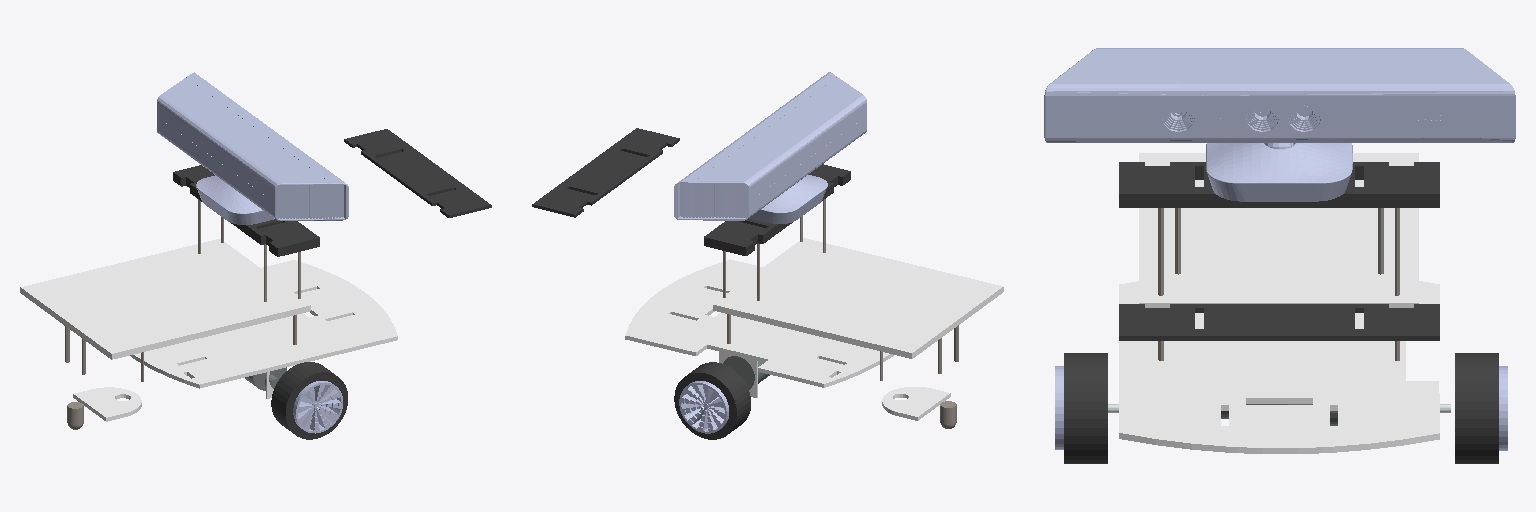
--- Render facts (derived) ---
3 views of the same robot in one strip: view 1: azimuth 30°, elevation 25°; view 2: azimuth 150°, elevation 25°; view 3: azimuth 270°, elevation 25° (orthographic).
Robot: robotr_description — 21 links, 20 joints (20 fixed); root link base_footprint; default pose: all joints at 0.
Visible links, largest first — view 1: upper_plate, kinect, base_link, black_plate_small, black_plate_big, r_wheel, r_rim, castor_base, 6cm_studs; view 2: upper_plate, kinect, base_link, black_plate_small, black_plate_big, l_wheel, l_rim, castor_base, l_motor, 6cm_studs; view 3: kinect, base_link, upper_plate, black_plate_small, black_plate_big, l_wheel, r_wheel, 6cm_studs, l_rim, r_rim.
Boxes of the visible links, box(x1,y1,x2,y2) form: upper_plate: box(20, 239, 310, 359); kinect: box(157, 72, 348, 224); base_link: box(130, 260, 397, 388); black_plate_small: box(344, 129, 491, 217); black_plate_big: box(173, 165, 319, 256); r_wheel: box(271, 362, 347, 439); r_rim: box(293, 381, 342, 433); castor_base: box(73, 387, 141, 421); 6cm_studs: box(198, 199, 300, 301); upper_plate: box(713, 238, 1003, 358); kinect: box(674, 72, 866, 223); base_link: box(625, 259, 893, 387); black_plate_small: box(532, 128, 679, 217); black_plate_big: box(704, 164, 850, 255); l_wheel: box(674, 362, 750, 439); l_rim: box(679, 381, 728, 433); castor_base: box(882, 387, 950, 420); l_motor: box(723, 356, 769, 389); 6cm_studs: box(723, 199, 825, 300); kinect: box(1044, 48, 1515, 201); base_link: box(1119, 281, 1439, 453); upper_plate: box(1139, 153, 1418, 307); black_plate_small: box(1119, 304, 1439, 340); black_plate_big: box(1119, 162, 1439, 207); l_wheel: box(1455, 353, 1498, 463); r_wheel: box(1064, 353, 1107, 463); 6cm_studs: box(1158, 208, 1399, 295); l_rim: box(1499, 366, 1507, 450); r_rim: box(1055, 366, 1063, 449).
Bounding box of the posed robot: 0.3925 × 0.2793 × 0.2555 m (x, y, z).
20 mesh visuals loaded from 20 distinct referenced files (20 binary STL).

robot.urdf — robotr_description:
<?xml version="1.0" encoding="utf-8"?>
<!-- This URDF was automatically created by SolidWorks to URDF Exporter! Originally created by Stephen Brawner ([email redacted]) 
     Commit Version: 1.6.0-1-g15f4949  Build Version: 1.6.7594.29634
     For more information, please see http://wiki.ros.org/sw_urdf_exporter -->
<robot
  name="robotr_description">
  <link name="base_footprint"/>
  <joint name="base_joint" type="fixed">
      <origin xyz="0 0 0.07" rpy="0 0 0" />
      <parent link="base_footprint"/>
      <child link="base_link" />
  </joint>
  <link
    name="base_link">
    <inertial>
      <origin
        xyz="-0.0803303511068174 0.00200000000059307 -0.00279990982630055"
        rpy="0 0 0" />
      <mass
        value="0.203717088165317" />
      <inertia
        ixx="0.000562842365919075"
        ixy="-1.06248777322587E-13"
        ixz="1.73218556106049E-07"
        iyy="0.00153671440021781"
        iyz="1.10182595670909E-16"
        izz="0.000974415279477664" />
    </inertial>
    <visual>
      <origin
        xyz="0 0 0"
        rpy="0 0 0" />
      <geometry>
        <mesh
          filename="package://navigator_bringup/meshes/base_link.STL" />
      </geometry>
      <material
        name="">
        <color
          rgba="1 1 1 0.3" />
      </material>
    </visual>
    <collision>
      <origin
        xyz="0 0 0"
        rpy="0 0 0" />
      <geometry>
        <mesh
          filename="package://navigator_bringup/meshes/base_link.STL" />
      </geometry>
    </collision>
  </link>
  <link
    name="castor_studs">
    <inertial>
      <origin
        xyz="1.23408929805474E-15 -0.0187500000000007 1.38777878078145E-16"
        rpy="0 0 0" />
      <mass
        value="0.00600155604822617" />
      <inertia
        ixx="7.0830864610836E-07"
        ixy="5.67936112148467E-23"
        ixz="6.68165186722167E-25"
        iyy="1.00025934137104E-08"
        iyz="4.89896175218932E-21"
        izz="7.0830864610836E-07" />
    </inertial>
    <visual>
      <origin
        xyz="0 0 0"
        rpy="0 0 0" />
      <geometry>
        <mesh
          filename="package://navigator_bringup/meshes/castor_studs.STL" />
      </geometry>
      <material
        name="">
        <color
          rgba="0.647058823529412 0.619607843137255 0.588235294117647 1" />
      </material>
    </visual>
    <collision>
      <origin
        xyz="0 0 0"
        rpy="0 0 0" />
      <geometry>
        <mesh
          filename="package://navigator_bringup/meshes/castor_studs.STL" />
      </geometry>
    </collision>
  </link>
  <joint
    name="castor_studs_joint"
    type="fixed">
    <origin
      xyz="-0.18 0 0"
      rpy="1.5707963267949 0 -1.5707963267949" />
    <parent
      link="base_link" />
    <child
      link="castor_studs" />
    <axis
      xyz="0 0 0" />
  </joint>
  <link
    name="castor_base">
    <inertial>
      <origin
        xyz="-1.29650489250412E-15 0.002 -0.0113743448101382"
        rpy="0 0 0" />
      <mass
        value="0.0116976101152847" />
      <inertia
        ixx="2.0855361321016E-06"
        ixy="-3.99680288865037E-24"
        ixz="2.03293134804627E-20"
        iyy="5.31282511365259E-06"
        iyz="1.68856393088669E-23"
        izz="3.25848260852509E-06" />
    </inertial>
    <visual>
      <origin
        xyz="0 0 0"
        rpy="0 0 0" />
      <geometry>
        <mesh
          filename="package://navigator_bringup/meshes/castor_base.STL" />
      </geometry>
      <material
        name="">
        <color
          rgba="1 1 1 0.3" />
      </material>
    </visual>
    <collision>
      <origin
        xyz="0 0 0"
        rpy="0 0 0" />
      <geometry>
        <mesh
          filename="package://navigator_bringup/meshes/castor_base.STL" />
      </geometry>
    </collision>
  </link>
  <joint
    name="castor_base_joint"
    type="fixed">
    <origin
      xyz="0 -0.0415 -0.025"
      rpy="3.14159265358979 0 3.14159265358979" />
    <parent
      link="castor_studs" />
    <child
      link="castor_base" />
    <axis
      xyz="0 0 0" />
  </joint>
  <link
    name="castor">
    <inertial>
      <origin
        xyz="2.77555756156289E-17 0.00567732558139535 -1.25711704189126E-15"
        rpy="3.1416 0 0" />
      <mass
        value="0.0292550998388507" />
      <inertia
        ixx="1.56333497253794E-06"
        ixy="-3.23316146394946E-23"
        ixz="2.76990885140595E-24"
        iyy="7.84529930271505E-07"
        iyz="-1.068884300382E-22"
        izz="1.56333497253794E-06" />
    </inertial>
    <visual>
      <origin
        xyz="0 0 0"
        rpy="0 0 0" />
      <geometry>
        <mesh
          filename="package://navigator_bringup/meshes/castor.STL" />
      </geometry>
      <material
        name="">
        <color
          rgba="0.647058823529412 0.619607843137255 0.588235294117647 1" />
      </material>
    </visual>
    <collision>
      <origin
        xyz="0 0 0"
        rpy="0 0 0" />
      <geometry>
        <mesh
          filename="package://navigator_bringup/meshes/castor.STL" />
      </geometry>
    </collision>
  </link>
  <joint
    name="castor_joint"
    type="fixed">
    <origin
      xyz="0 -0.0125 -0.025"
      rpy="0 1.5708 0" />
    <parent
      link="castor_base" />
    <child
      link="castor" />
    <axis
      xyz="0 0 0" />
  </joint>
  <link
    name="l_clamp">
    <inertial>
      <origin
        xyz="4.46439755636888E-16 0.00634190450325339 0.0108492512203278"
        rpy="0 0 0" />
      <mass
        value="0.0113161726562261" />
      <inertia
        ixx="2.68003208965716E-06"
        ixy="-9.23150646109792E-21"
        ixz="4.49571498549235E-21"
        iyy="4.10049166716253E-06"
        iyz="-5.71883700326575E-07"
        izz="2.45690436047926E-06" />
    </inertial>
    <visual>
      <origin
        xyz="0 0 0"
        rpy="0 0 0" />
      <geometry>
        <mesh
          filename="package://navigator_bringup/meshes/l_clamp.STL" />
      </geometry>
      <material
        name="">
        <color
          rgba="1 1 1 1" />
      </material>
    </visual>
    <collision>
      <origin
        xyz="0 0 0"
        rpy="0 0 0" />
      <geometry>
        <mesh
          filename="package://navigator_bringup/meshes/l_clamp.STL" />
      </geometry>
    </collision>
  </link>
  <joint
    name="l_clamp_joint"
    type="fixed">
    <origin
      xyz="0 0.071 -0.02"
      rpy="0 0 -3.1416" />
    <parent
      link="base_link" />
    <child
      link="l_clamp" />
    <axis
      xyz="0 0 0" />
  </joint>
  <link
    name="l_motor">
    <inertial>
      <origin
        xyz="1.49223508458574E-15 0.0331302521008403 0.000142857142857142"
        rpy="0 0 0" />
      <mass
        value="0.524884734191168" />
      <inertia
        ixx="0.000236474771933518"
        ixy="-3.18605575834741E-18"
        ixz="-5.79157981080169E-20"
        iyy="8.43876657673291E-05"
        iyz="-2.76462397510654E-06"
        izz="0.000235848123832493" />
    </inertial>
    <visual>
      <origin
        xyz="0 0 0"
        rpy="0 0 0" />
      <geometry>
        <mesh
          filename="package://navigator_bringup/meshes/l_motor.STL" />
      </geometry>
      <material
        name="">
        <color
          rgba="0.529411764705882 0.549019607843137 0.549019607843137 1" />
      </material>
    </visual>
    <collision>
      <origin
        xyz="0 0 0"
        rpy="0 0 0" />
      <geometry>
        <mesh
          filename="package://navigator_bringup/meshes/l_motor.STL" />
      </geometry>
    </collision>
  </link>
  <joint
    name="l_motor_joint"
    type="fixed">
    <origin
      xyz="0 0.066 0"
      rpy="3.14159265358979 0 0" />
    <parent
      link="l_clamp" />
    <child
      link="l_motor" />
    <axis
      xyz="0 0 0" />
  </joint>
  <link
    name="l_shaft">
    <inertial>
      <origin
        xyz="6.21571815861636E-16 0.011 3.46944695195361E-18"
        rpy="0 0 0" />
      <mass
        value="0.00117927534234127" />
      <inertia
        ixx="4.94067231968394E-08"
        ixy="-3.19271442540666E-22"
        ixz="-3.98019225194449E-39"
        iyy="3.68523544481647E-09"
        iyz="-4.23878906834201E-25"
        izz="4.94067231968394E-08" />
    </inertial>
    <visual>
      <origin
        xyz="0 0 0"
        rpy="0 0 0" />
      <geometry>
        <mesh
          filename="package://navigator_bringup/meshes/l_shaft.STL" />
      </geometry>
      <material
        name="">
        <color
          rgba="0.898039215686275 0.917647058823529 0.929411764705882 1" />
      </material>
    </visual>
    <collision>
      <origin
        xyz="0 0 0"
        rpy="0 0 0" />
      <geometry>
        <mesh
          filename="package://navigator_bringup/meshes/l_shaft.STL" />
      </geometry>
    </collision>
  </link>
  <joint
    name="l_shaft_joint"
    type="fixed">
    <origin
      xyz="0 0.075 0.00849999999999974"
      rpy="0 0 0" />
    <parent
      link="l_motor" />
    <child
      link="l_shaft" />
    <axis
      xyz="0 0 0" />
  </joint>
  <link
    name="l_rim">
    <inertial>
      <origin
        xyz="8.02221423384087E-16 0.0122162154619034 5.88345364891524E-06"
        rpy="0 0 0" />
      <mass
        value="0.0281408161945305" />
      <inertia
        ixx="6.48363892722368E-06"
        ixy="2.38924530570378E-20"
        ixz="1.12234318729371E-20"
        iyy="1.00188552236876E-05"
        iyz="-1.61985412368655E-09"
        izz="6.48372715588808E-06" />
    </inertial>
    <visual>
      <origin
        xyz="0 0 0"
        rpy="0 0 0" />
      <geometry>
        <mesh
          filename="package://navigator_bringup/meshes/l_rim.STL" />
      </geometry>
      <material
        name="">
        <color
          rgba="0.792156862745098 0.819607843137255 0.933333333333333 1" />
      </material>
    </visual>
    <collision>
      <origin
        xyz="0 0 0"
        rpy="0 0 0" />
      <geometry>
        <mesh
          filename="package://navigator_bringup/meshes/l_rim.STL" />
      </geometry>
    </collision>
  </link>
  <joint
    name="l_rim_joint"
    type="fixed">
    <origin
      xyz="0 0.0242514397792677 0"
      rpy="0 0 0" />
    <parent
      link="l_shaft" />
    <child
      link="l_rim" />
    <axis
      xyz="0 0 0" />
  </joint>
  <link
    name="l_wheel">
    <inertial>
      <origin
        xyz="8.18762427883605E-16 0.013 1.6306400674182E-16"
        rpy="0 0 0" />
      <mass
        value="0.0439338814375541" />
      <inertia
        ixx="2.13006101836408E-05"
        ixy="1.14176510865926E-19"
        ixz="1.58691157838805E-33"
        iyy="3.76513363919839E-05"
        iyz="2.26252082477143E-19"
        izz="2.13006101836408E-05" />
    </inertial>
    <visual>
      <origin
        xyz="0 0 0"
        rpy="0 0 0" />
      <geometry>
        <mesh
          filename="package://navigator_bringup/meshes/l_wheel.STL" />
      </geometry>
      <material
        name="">
        <color
          rgba="0.298039215686275 0.298039215686275 0.298039215686275 1" />
      </material>
    </visual>
    <collision>
      <origin
        xyz="0 0 0"
        rpy="0 0 0" />
      <geometry>
        <mesh
          filename="package://navigator_bringup/meshes/l_wheel.STL" />
      </geometry>
    </collision>
  </link>
  <joint
    name="l_wheel_joint"
    type="fixed">
    <origin
      xyz="0 0 0"
      rpy="0 0 0" />
    <parent
      link="l_rim" />
    <child
      link="l_wheel" />
    <axis
      xyz="0 0 0" />
  </joint>
  <link
    name="r_clamp">
    <inertial>
      <origin
        xyz="7.73858964492141E-16 0.00634190450325341 0.0108492512203277"
        rpy="0 0 0" />
      <mass
        value="0.011316172656226" />
      <inertia
        ixx="2.68003208965717E-06"
        ixy="5.75150324310157E-22"
        ixz="-4.67965262388268E-21"
        iyy="4.10049166716254E-06"
        iyz="-5.71883700326575E-07"
        izz="2.45690436047926E-06" />
    </inertial>
    <visual>
      <origin
        xyz="0 0 0"
        rpy="0 0 0" />
      <geometry>
        <mesh
          filename="package://navigator_bringup/meshes/r_clamp.STL" />
      </geometry>
      <material
        name="">
        <color
          rgba="1 1 1 1" />
      </material>
    </visual>
    <collision>
      <origin
        xyz="0 0 0"
        rpy="0 0 0" />
      <geometry>
        <mesh
          filename="package://navigator_bringup/meshes/r_clamp.STL" />
      </geometry>
    </collision>
  </link>
  <joint
    name="r_clamp_joint"
    type="fixed">
    <origin
      xyz="0 -0.071 -0.02"
      rpy="0 0 0" />
    <parent
      link="base_link" />
    <child
      link="r_clamp" />
    <axis
      xyz="0 0 0" />
  </joint>
  <link
    name="r_motor">
    <inertial>
      <origin
        xyz="0.0099999999999995 0.0431302521008403 0.000142857142857177"
        rpy="0 0 0" />
      <mass
        value="0.524884734191169" />
      <inertia
        ixx="0.000236474771933518"
        ixy="-1.0427133200798E-18"
        ixz="-1.49294057345111E-20"
        iyy="8.43876657673291E-05"
        iyz="-2.76462397510655E-06"
        izz="0.000235848123832493" />
    </inertial>
    <visual>
      <origin
        xyz="0 0 0"
        rpy="0 0 0" />
      <geometry>
        <mesh
          filename="package://navigator_bringup/meshes/r_motor.STL" />
      </geometry>
      <material
        name="">
        <color
          rgba="0.529411764705882 0.549019607843137 0.549019607843137 1" />
      </material>
    </visual>
    <collision>
      <origin
        xyz="0 0 0"
        rpy="0 0 0" />
      <geometry>
        <mesh
          filename="package://navigator_bringup/meshes/r_motor.STL" />
      </geometry>
    </collision>
  </link>
  <joint
    name="r_motor_joint"
    type="fixed">
    <origin
      xyz="-0.01 0.076 0"
      rpy="3.14159265358979 0 0" />
    <parent
      link="r_clamp" />
    <child
      link="r_motor" />
    <axis
      xyz="0 0 0" />
  </joint>
  <link
    name="r_shaft">
    <inertial>
      <origin
        xyz="-6.3544960366945E-16 0.011 0"
        rpy="0 0 0" />
      <mass
        value="0.00117927534234127" />
      <inertia
        ixx="4.94067231968394E-08"
        ixy="3.19271442540666E-22"
        ixz="-6.89811526679502E-39"
        iyy="3.68523544481647E-09"
        iyz="4.23878906834262E-25"
        izz="4.94067231968394E-08" />
    </inertial>
    <visual>
      <origin
        xyz="0 0 0"
        rpy="0 0 0" />
      <geometry>
        <mesh
          filename="package://navigator_bringup/meshes/r_shaft.STL" />
      </geometry>
      <material
        name="">
        <color
          rgba="0.898039215686275 0.917647058823529 0.929411764705882 1" />
      </material>
    </visual>
    <collision>
      <origin
        xyz="0 0 0"
        rpy="0 0 0" />
      <geometry>
        <mesh
          filename="package://navigator_bringup/meshes/r_shaft.STL" />
      </geometry>
    </collision>
  </link>
  <joint
    name="r_shaft_joint"
    type="fixed">
    <origin
      xyz="0.01 0.085 0.00850000000000029"
      rpy="3.14159265358979 0 -3.14159265358979" />
    <parent
      link="r_motor" />
    <child
      link="r_shaft" />
    <axis
      xyz="0 0 0" />
  </joint>
  <link
    name="r_rim">
    <inertial>
      <origin
        xyz="-7.91701425760462E-16 0.0122162154619034 5.88345364891177E-06"
        rpy="0 0 0" />
      <mass
        value="0.0281408161945305" />
      <inertia
        ixx="6.48363892722369E-06"
        ixy="-2.51094305737917E-20"
        ixz="1.08820439564639E-20"
        iyy="1.00188552236876E-05"
        iyz="-1.61985412368637E-09"
        izz="6.48372715588809E-06" />
    </inertial>
    <visual>
      <origin
        xyz="0 0 0"
        rpy="0 0 0" />
      <geometry>
        <mesh
          filename="package://navigator_bringup/meshes/r_rim.STL" />
      </geometry>
      <material
        name="">
        <color
          rgba="0.792156862745098 0.819607843137255 0.933333333333333 1" />
      </material>
    </visual>
    <collision>
      <origin
        xyz="0 0 0"
        rpy="0 0 0" />
      <geometry>
        <mesh
          filename="package://navigator_bringup/meshes/r_rim.STL" />
      </geometry>
    </collision>
  </link>
  <joint
    name="r_rim_joint"
    type="fixed">
    <origin
      xyz="0 0.0218095636751039 0"
      rpy="0 0 0" />
    <parent
      link="r_shaft" />
    <child
      link="r_rim" />
    <axis
      xyz="0 0 0" />
  </joint>
  <link
    name="r_wheel">
    <inertial>
      <origin
        xyz="-8.01710898184696E-16 0.013 1.76941794549634E-16"
        rpy="0 0 0" />
      <mass
        value="0.0439338814375541" />
      <inertia
        ixx="2.13006101836408E-05"
        ixy="-1.14176510865926E-19"
        ixz="-1.60133259501566E-33"
        iyy="3.76513363919839E-05"
        iyz="2.28336282505836E-19"
        izz="2.13006101836408E-05" />
    </inertial>
    <visual>
      <origin
        xyz="0 0 0"
        rpy="0 0 0" />
      <geometry>
        <mesh
          filename="package://navigator_bringup/meshes/r_wheel.STL" />
      </geometry>
      <material
        name="">
        <color
          rgba="0.298039215686275 0.298039215686275 0.298039215686275 1" />
      </material>
    </visual>
    <collision>
      <origin
        xyz="0 0 0"
        rpy="0 0 0" />
      <geometry>
        <mesh
          filename="package://navigator_bringup/meshes/r_wheel.STL" />
      </geometry>
    </collision>
  </link>
  <joint
    name="r_wheel_joint"
    type="fixed">
    <origin
      xyz="0 0 0"
      rpy="0 0 0" />
    <parent
      link="r_rim" />
    <child
      link="r_wheel" />
    <axis
      xyz="0 0 0" />
  </joint>
  <link
    name="4cm_studs">
    <inertial>
      <origin
        xyz="1.38777878078145E-17 0.02 -4.73883287399247E-16"
        rpy="0 0 0" />
      <mass
        value="0.0128033195695494" />
      <inertia
        ixx="1.71777870891455E-06"
        ixy="-8.61135230571164E-23"
        ixz="-1.48831518156455E-23"
        iyy="2.13388659492473E-08"
        iyz="-2.11474623538136E-22"
        izz="1.71777870891454E-06" />
    </inertial>
    <visual>
      <origin
        xyz="0 0 0"
        rpy="0 0 0" />
      <geometry>
        <mesh
          filename="package://navigator_bringup/meshes/4cm_studs.STL" />
      </geometry>
      <material
        name="">
        <color
          rgba="0.647058823529412 0.619607843137255 0.588235294117647 1" />
      </material>
    </visual>
    <collision>
      <origin
        xyz="0 0 0"
        rpy="0 0 0" />
      <geometry>
        <mesh
          filename="package://navigator_bringup/meshes/4cm_studs.STL" />
      </geometry>
    </collision>
  </link>
  <joint
    name="4cm_studs_joint"
    type="fixed">
    <origin
      xyz="-0.08 0 0.004"
      rpy="1.5707963267949 0 3.14159265358979" />
    <parent
      link="base_link" />
    <child
      link="4cm_studs" />
    <axis
      xyz="0 0 0" />
  </joint>
  <link
    name="upper_plate">
    <inertial>
      <origin
        xyz="0.00500000000000005 0.003 -5.69419057527234E-16"
        rpy="0 0 0" />
      <mass
        value="0.0711144" />
      <inertia
        ixx="0.0001635157104"
        ixy="-8.81875358350719E-22"
        ixz="6.63833932641862E-19"
        iyy="0.0004246477872"
        iyz="1.95852727215511E-20"
        izz="0.0002615587632" />
    </inertial>
    <visual>
      <origin
        xyz="0 0 0"
        rpy="0 0 0" />
      <geometry>
        <mesh
          filename="package://navigator_bringup/meshes/upper_plate.STL" />
      </geometry>
      <material
        name="">
        <color
          rgba="1 1 1 1" />
      </material>
    </visual>
    <collision>
      <origin
        xyz="0 0 0"
        rpy="0 0 0" />
      <geometry>
        <mesh
          filename="package://navigator_bringup/meshes/upper_plate.STL" />
      </geometry>
    </collision>
  </link>
  <joint
    name="upper_plate_joint"
    type="fixed">
    <origin
      xyz="0 0.04 0"
      rpy="0 0 0" />
    <parent
      link="4cm_studs" />
    <child
      link="upper_plate" />
    <axis
      xyz="0 0 0" />
  </joint>
  <link
    name="black_plate_small">
    <inertial>
      <origin
        xyz="0.000462962962962967 0.00150000000000001 7.05793464637922E-17"
        rpy="0 0 0" />
      <mass
        value="0.031833" />
      <inertia
        ixx="9.53361997500001E-05"
        ixy="-3.00024246406317E-23"
        ixz="4.0679143692461E-21"
        iyy="0.000100642933333333"
        iyz="-1.88257499140994E-21"
        izz="5.35448308333334E-06" />
    </inertial>
    <visual>
      <origin
        xyz="0 0 0"
        rpy="0 0 0" />
      <geometry>
        <mesh
          filename="package://navigator_bringup/meshes/black_plate_small.STL" />
      </geometry>
      <material
        name="">
        <color
          rgba="0.298039215686275 0.298039215686275 0.298039215686275 1" />
      </material>
    </visual>
    <collision>
      <origin
        xyz="0 0 0"
        rpy="0 0 0" />
      <geometry>
        <mesh
          filename="package://navigator_bringup/meshes/black_plate_small.STL" />
      </geometry>
    </collision>
  </link>
  <joint
    name="black_plate_small_joint"
    type="fixed">
    <origin
      xyz="-0.08 0.006 0"
      rpy="3.14159265358979 0 3.14159265358979" />
    <parent
      link="upper_plate" />
    <child
      link="black_plate_small" />
    <axis
      xyz="0 0 0" />
  </joint>
  <link
    name="6cm_studs">
    <inertial>
      <origin
        xyz="0.0799999999999998 0.029 5.66140327106846E-16"
        rpy="0 0 0" />
      <mass
        value="0.0192049793543236" />
      <inertia
        ixx="5.77749795575901E-06"
        ixy="1.14874970004442E-23"
        ixz="2.7818083955487E-25"
        iyy="3.20082989238674E-08"
        iyz="-7.03943736991413E-24"
        izz="5.77749795575901E-06" />
    </inertial>
    <visual>
      <origin
        xyz="0 0 0"
        rpy="0 0 0" />
      <geometry>
        <mesh
          filename="package://navigator_bringup/meshes/6cm_studs.STL" />
      </geometry>
      <material
        name="">
        <color
          rgba="0.647058823529412 0.619607843137255 0.588235294117647 1" />
      </material>
    </visual>
    <collision>
      <origin
        xyz="0 0 0"
        rpy="0 0 0" />
      <geometry>
        <mesh
          filename="package://navigator_bringup/meshes/6cm_studs.STL" />
      </geometry>
    </collision>
  </link>
  <joint
    name="6cm_studs_joint"
    type="fixed">
    <origin
      xyz="-0.08 0.004 0"
      rpy="0 0 0" />
    <parent
      link="black_plate_small" />
    <child
      link="6cm_studs" />
    <axis
      xyz="0 0 0" />
  </joint>
  <link
    name="black_plate_big">
    <inertial>
      <origin
        xyz="0.000462962962962966 0.00449999999999999 5.57661188960559E-17"
        rpy="0 0 0" />
      <mass
        value="0.0954989999999999" />
      <inertia
        ixx="0.00028658159325"
        ixy="-5.13810130659092E-23"
        ixz="1.86370302225981E-21"
        iyy="0.0003019288"
        iyz="-3.30990938509318E-22"
        izz="1.663644325E-05" />
    </inertial>
    <visual>
      <origin
        xyz="0 0 0"
        rpy="0 0 0" />
      <geometry>
        <mesh
          filename="package://navigator_bringup/meshes/black_plate_big.STL" />
      </geometry>
      <material
        name="">
        <color
          rgba="0.298039215686275 0.298039215686275 0.298039215686275 1" />
      </material>
    </visual>
    <collision>
      <origin
        xyz="0 0 0"
        rpy="0 0 0" />
      <geometry>
        <mesh
          filename="package://navigator_bringup/meshes/black_plate_big.STL" />
      </geometry>
    </collision>
  </link>
  <joint
    name="black_plate_big_joint"
    type="fixed">
    <origin
      xyz="0.08 0.059 0"
      rpy="0 0 0" />
    <parent
      link="6cm_studs" />
    <child
      link="black_plate_big" />
    <axis
      xyz="0 0 0" />
  </joint>
  <link
    name="kinect">
    <inertial>
      <origin
        xyz="0.00122183168080987 0.0321387211137403 0.000160728341865204"
        rpy="0 0 0" />
      <mass
        value="0.645269768162058" />
      <inertia
        ixx="0.00284310577525538"
        ixy="-1.54624658814483E-07"
        ixz="2.56831959224755E-06"
        iyy="0.00296397070653704"
        iyz="-1.09854801503413E-08"
        izz="0.000263778628039503" />
    </inertial>
    <visual>
      <origin
        xyz="0 0 0"
        rpy="0 0 0" />
      <geometry>
        <mesh
          filename="package://navigator_bringup/meshes/kinect.STL" />
      </geometry>
      <material
        name="">
        <color
          rgba="0.792156862745098 0.819607843137255 0.933333333333333 1" />
      </material>
    </visual>
    <collision>
      <origin
        xyz="0 0 0"
        rpy="0 0 0" />
      <geometry>
        <mesh
          filename="package://navigator_bringup/meshes/kinect.STL" />
      </geometry>
    </collision>
  </link>
  <joint
    name="kinect_base"
    type="fixed">
    <origin
      xyz="0 0.023 0"
      rpy="3.14159265358979 0 3.14159265358979" />
    <parent
      link="black_plate_big" />
    <child
      link="kinect" />
    <axis
      xyz="0 0 0" />
  </joint>
</robot>
